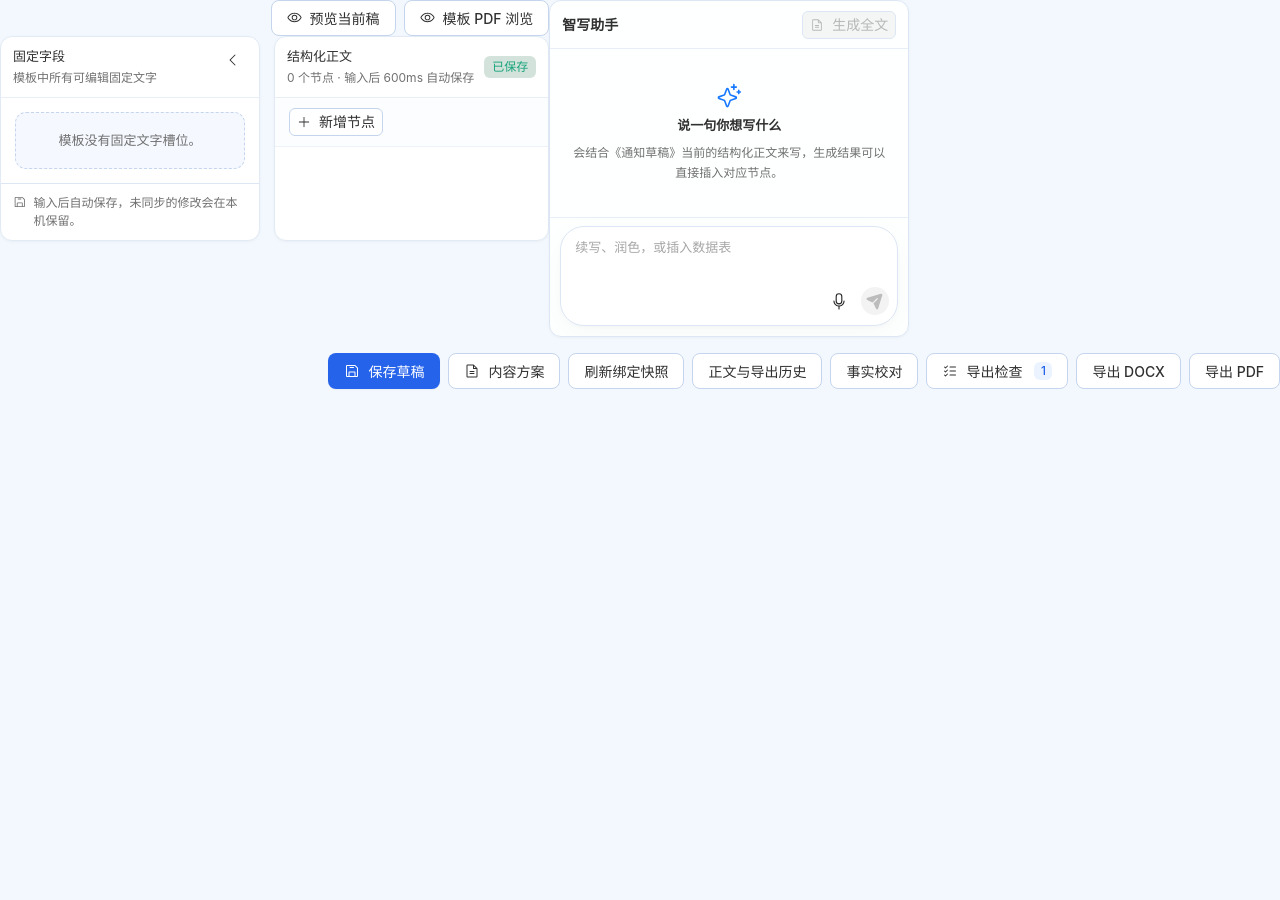
Scenario: DraftDetailView › offers detach for an ACTIVE binding
Expected: the text "已保存" is shown, [484, 56, 536, 78]
Expected: the button "导出 DOCX" is enabled, [1076, 353, 1181, 389]
Click the button "导出检查 1". click: point(997, 371)
box: [926, 353, 1068, 389]
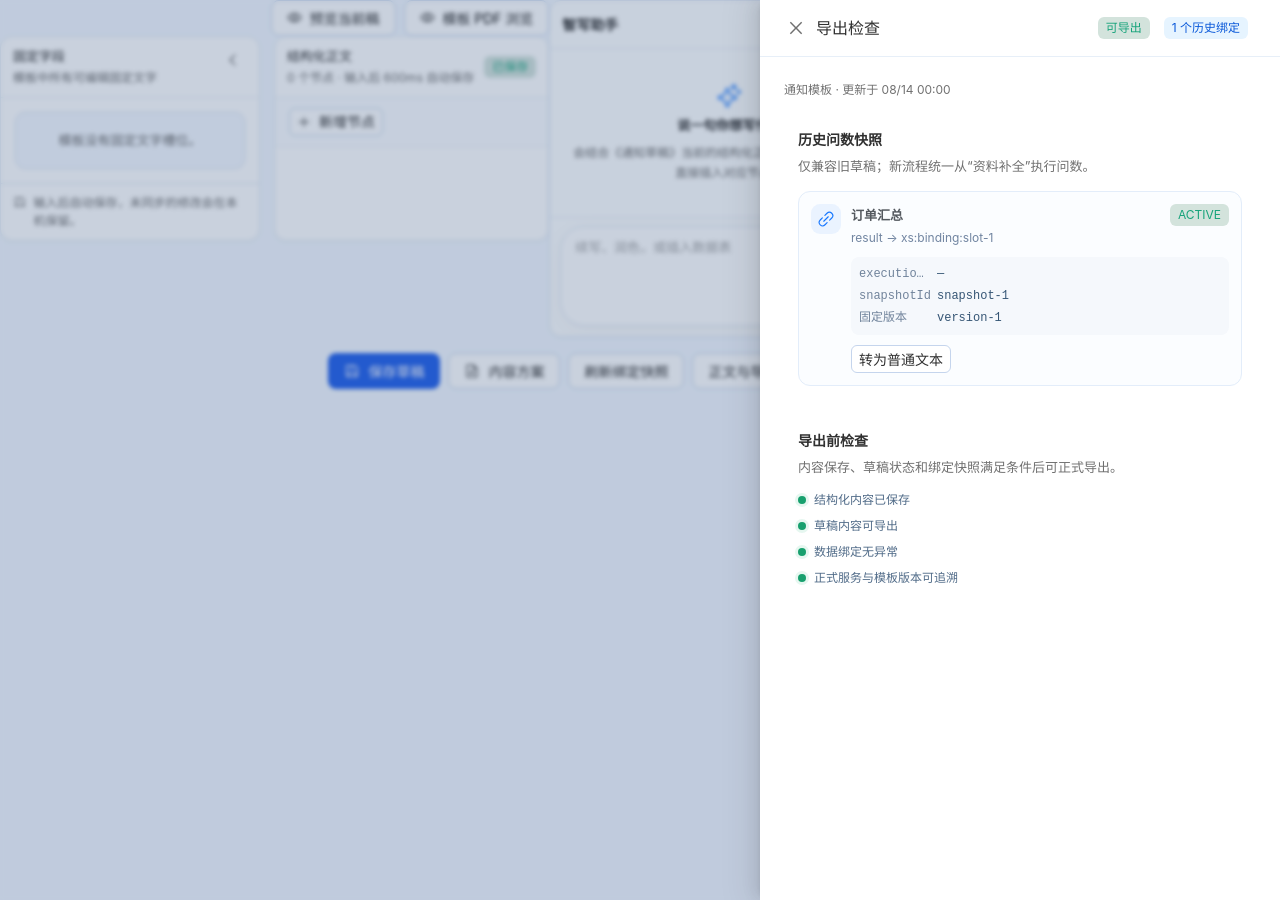
Expected: the button "转为普通文本" is enabled, [851, 345, 951, 373]
